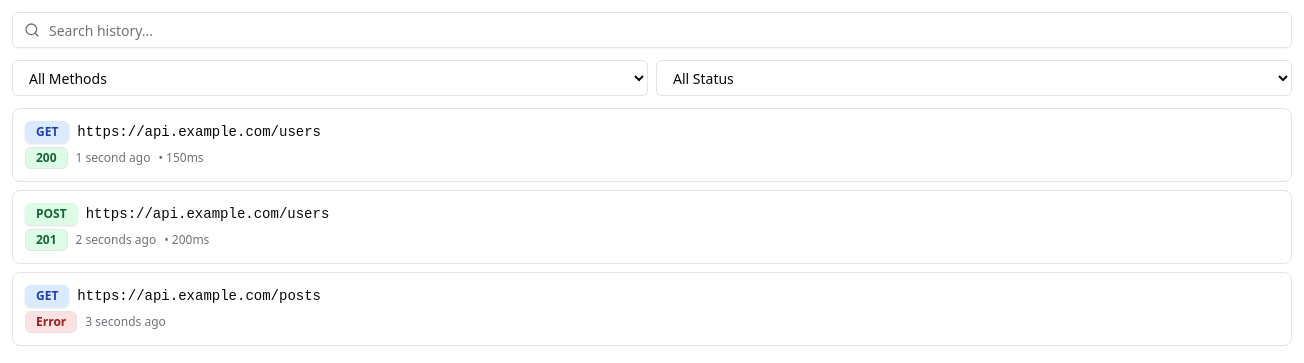
Test: HistoryList › should filter items by search query
Type "posts" into the field with placeholder "Search history..." at (652, 30), box top-left (12, 12), bottom-right (1292, 48)
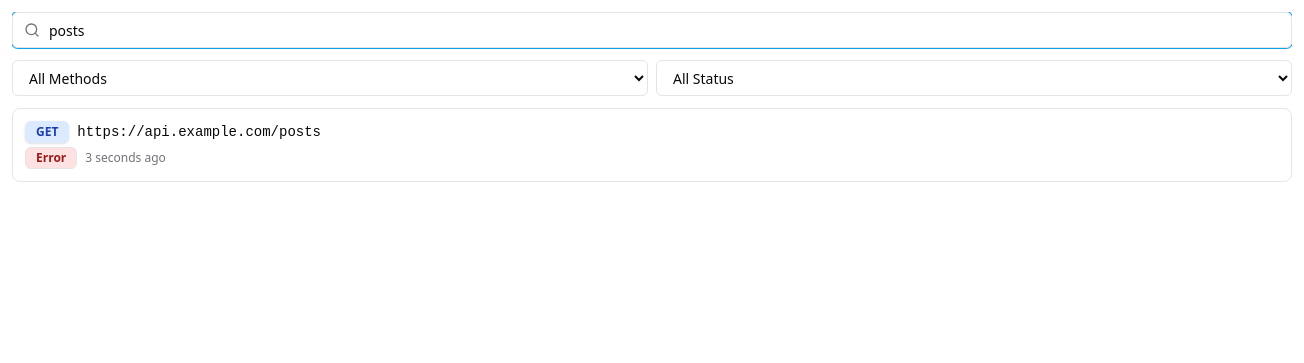
Check: the text "https://api.example.com/posts" is shown, box top-left (77, 124), bottom-right (321, 140)
Check: the button "users" is gone
